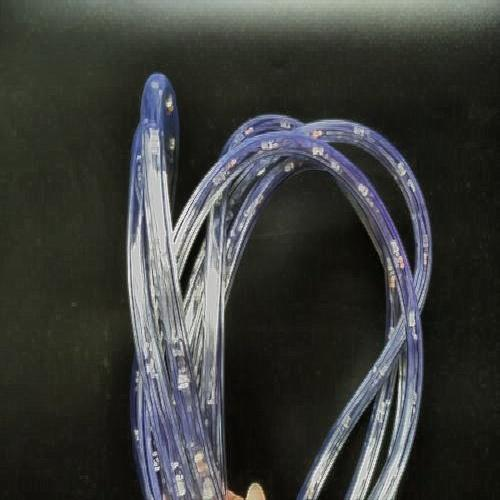lamp: (127, 72, 424, 486)
